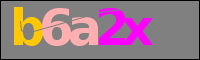2: (99, 8, 124, 46)
6: (42, 6, 69, 47)
a: (71, 16, 98, 48)
b: (13, 5, 41, 47)
x: (125, 16, 155, 47)
